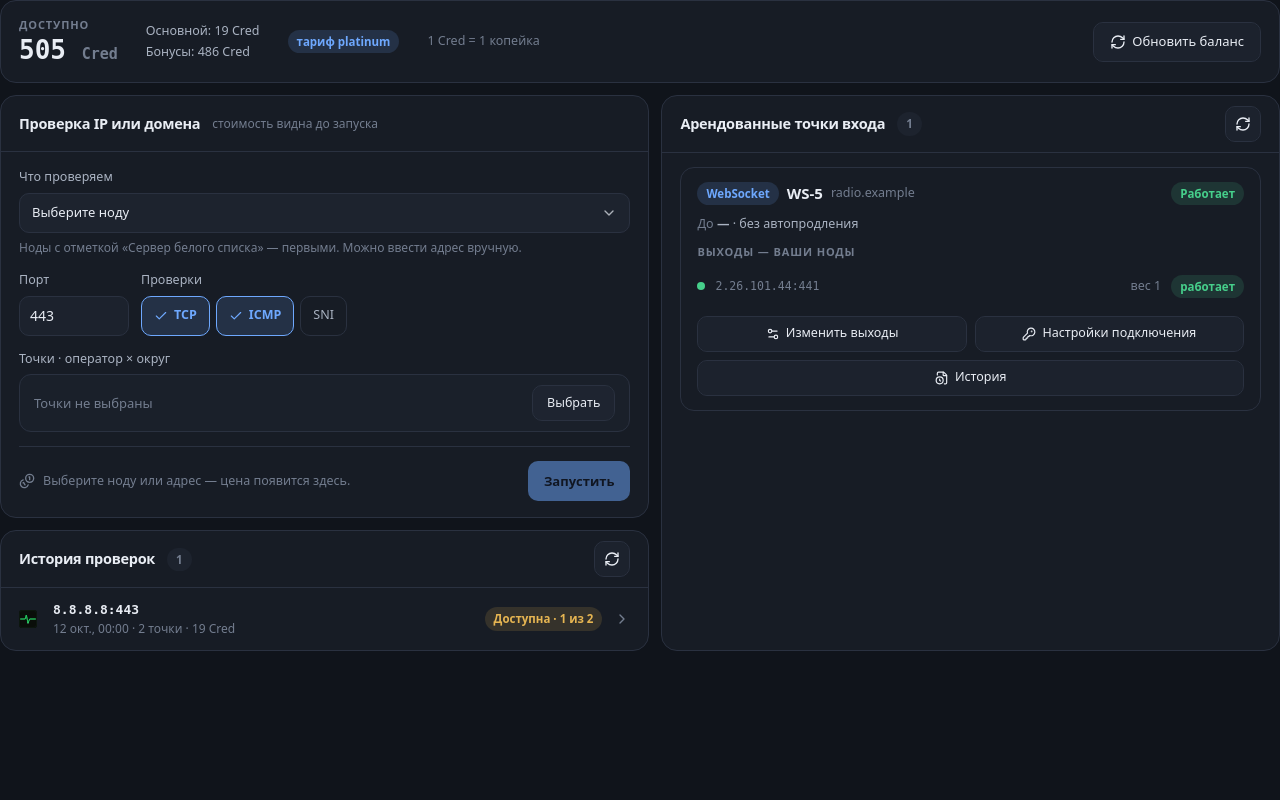
Test case: Серверы точки WebSocket: проверка после сохранения › все серверы работают — итог, «Готово»
Click the button "Изменить выходы" at coordinates (832, 334), box [698,316,967,352]
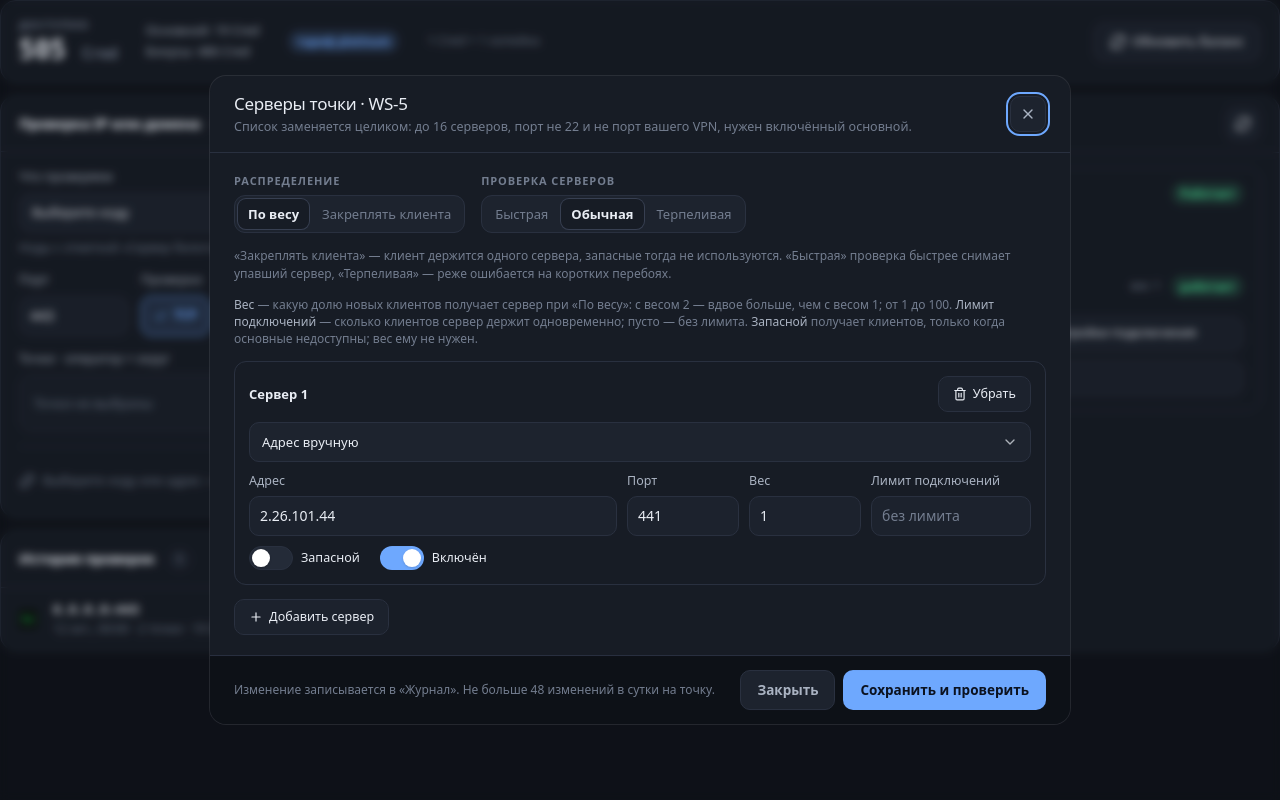
Click the button "Добавить сервер" at coordinates (312, 617), box [234,599,389,635]
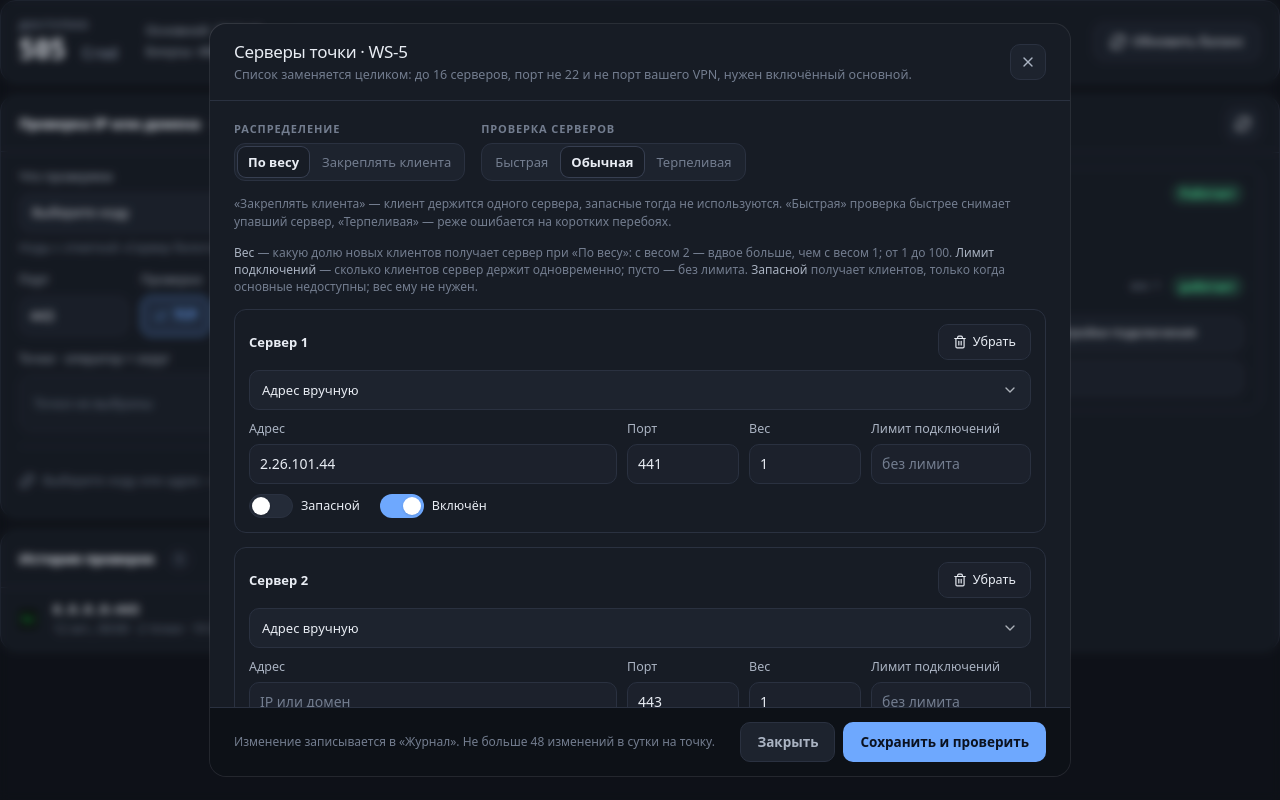
Type "144.31.144.199" into the field named "Адрес сервера 2" at coordinates (433, 702), box [249,682,617,722]
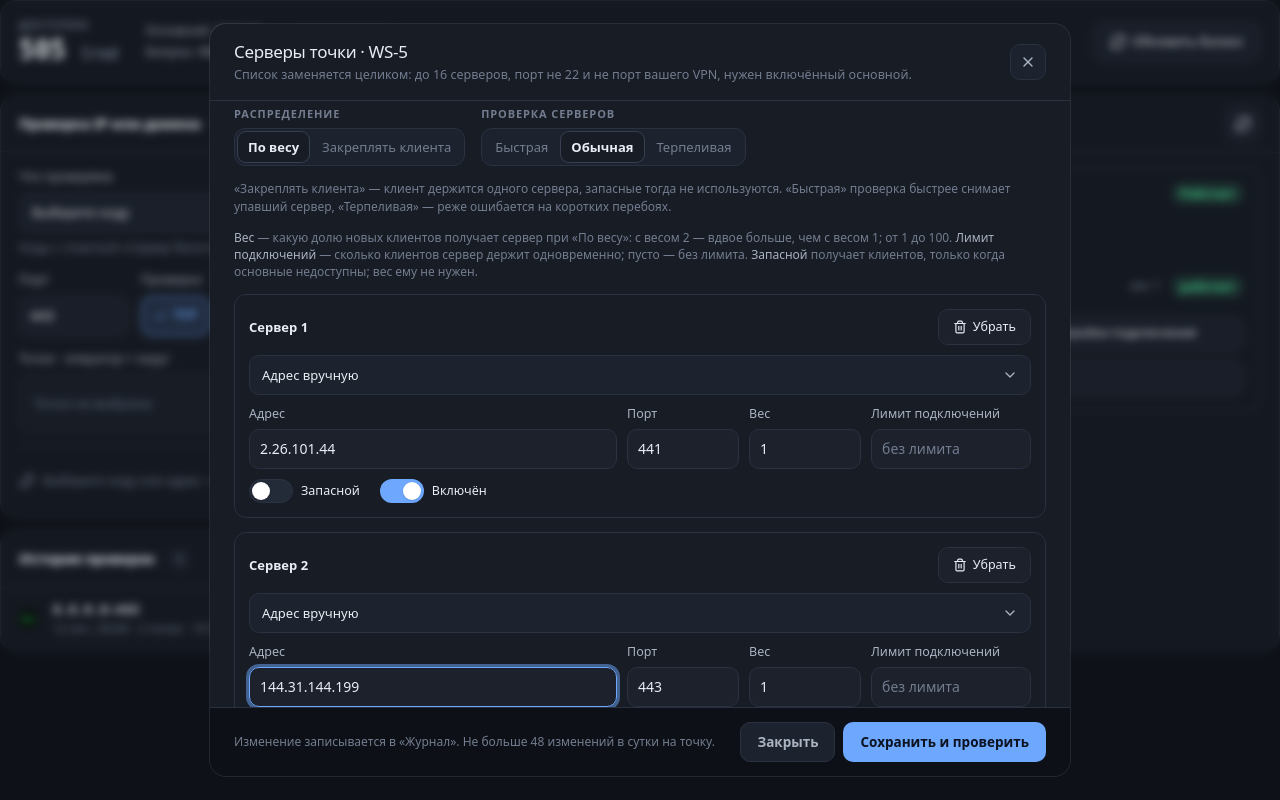
Click the button "Сохранить и проверить" at coordinates (945, 742), box [844,722,1046,762]
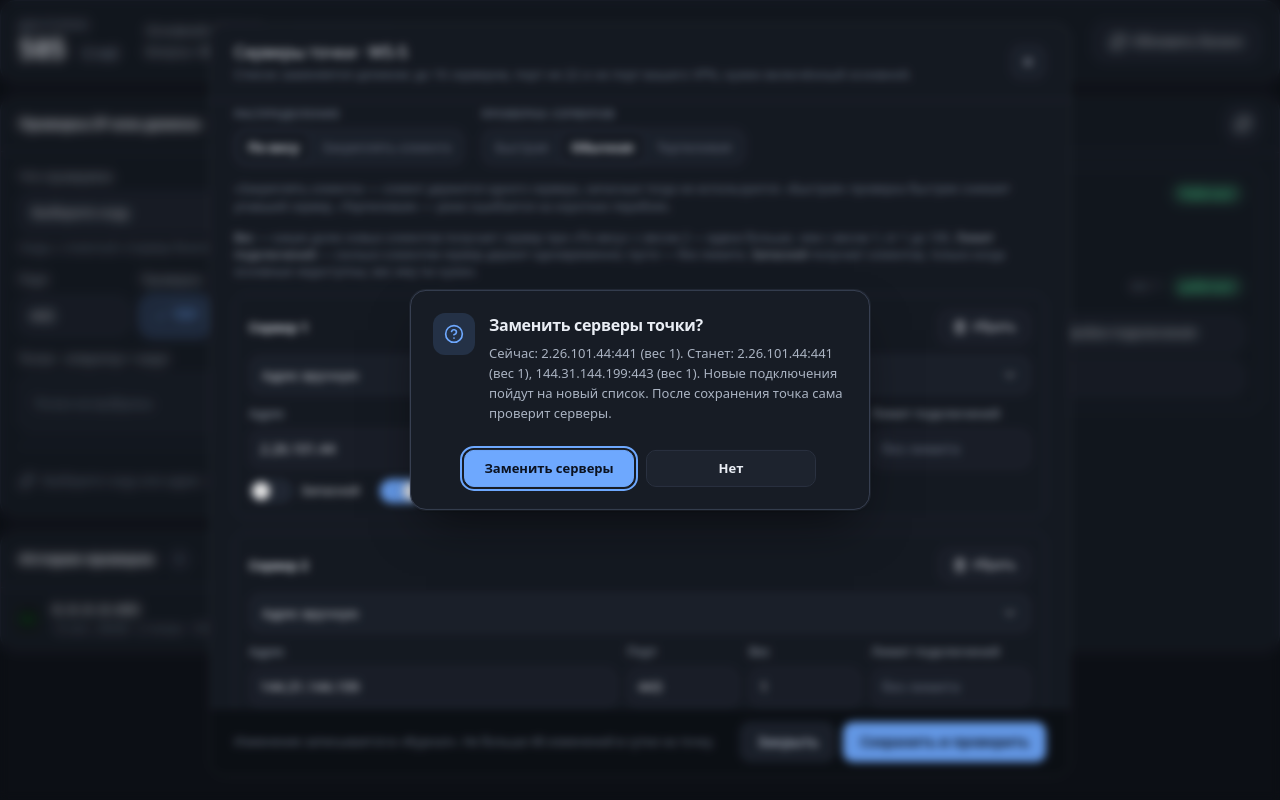
Click the button "Заменить серверы" at coordinates (549, 468), box [464,450,634,487]
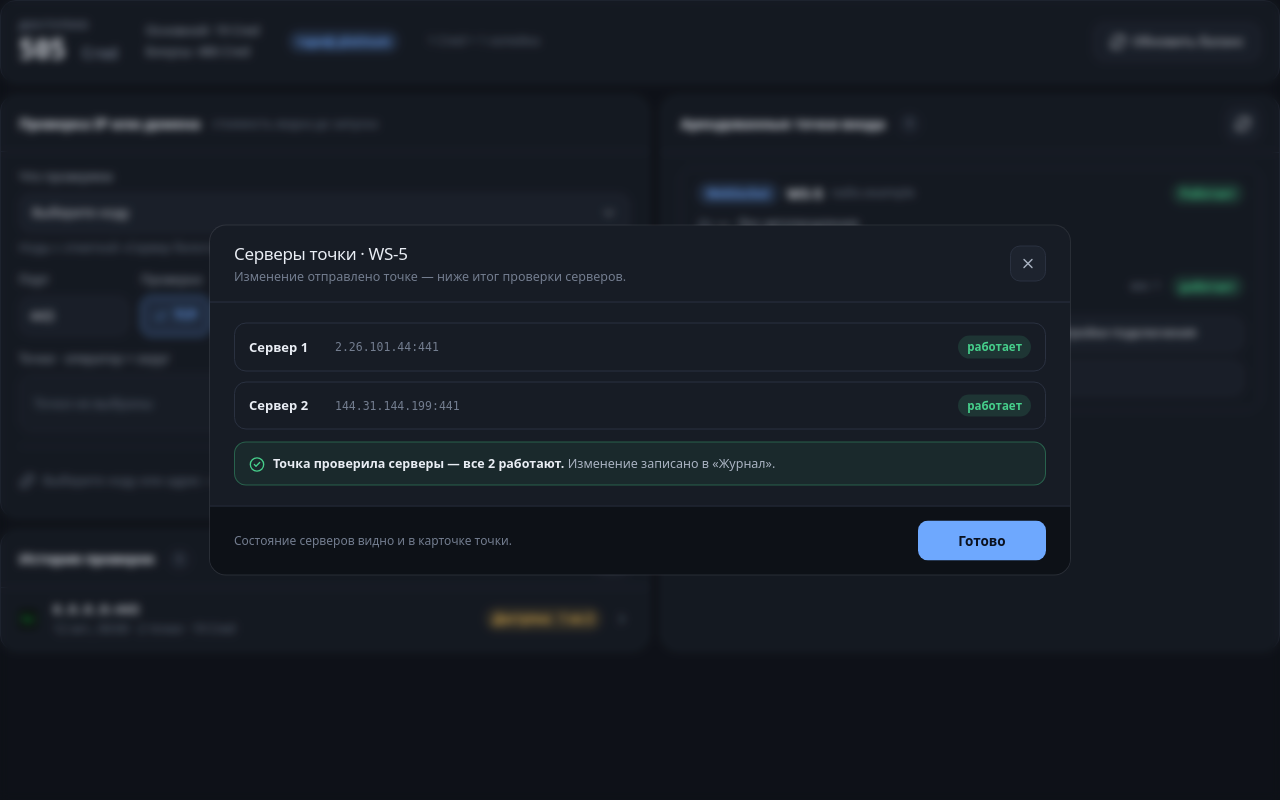
Expected: the text "Точка проверила серверы — все 2 работают." is shown, [273,454,564,472]
Expected: the button "Готово" is enabled, [918,520,1046,560]
